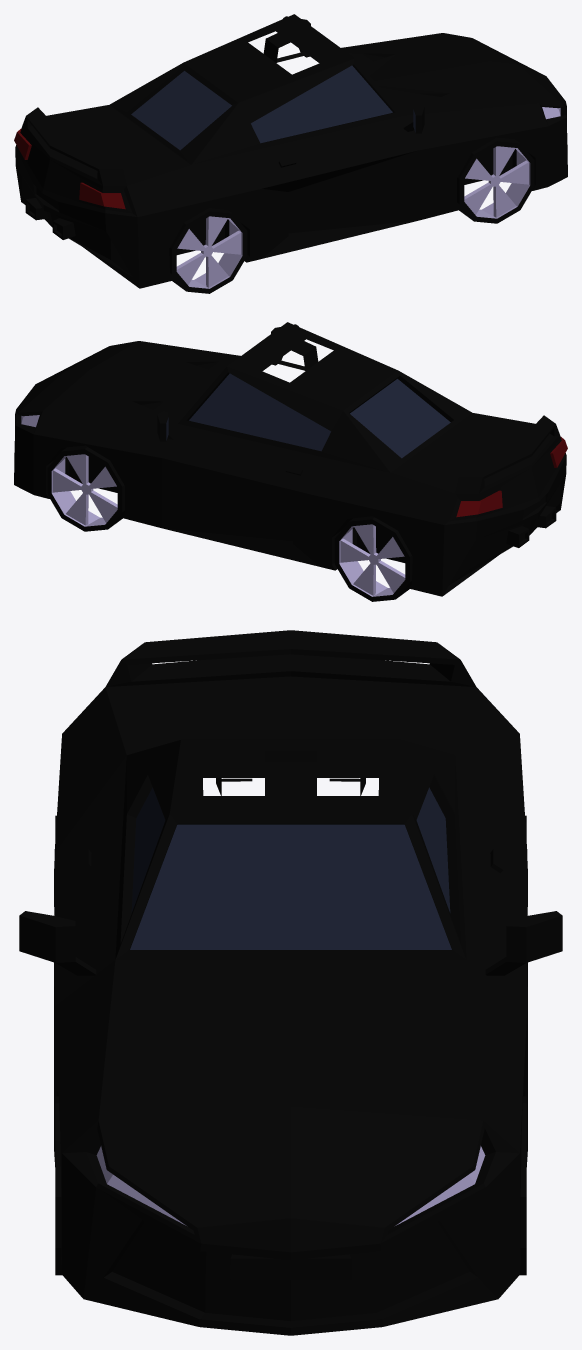
The model's file is coupe.glb.
3 renders of one model, top to bottom at view 1: azimuth 30°, elevation 25°; view 2: azimuth 150°, elevation 25°; view 3: azimuth 270°, elevation 25°, orthographic. The views are drawn at different scales.
Parts seen in each view (by area): view 1: body_paint, body_glass, wheel_fr_rim, wheel_rr_rim, wheel_fr_tire, wheel_rr_tire, body_tail; view 2: body_paint, body_glass, wheel_fl_rim, wheel_rl_rim, wheel_fl_tire, wheel_rl_tire, body_tail; view 3: body_paint, body_glass, body_lamp.
Boxes of the visible parts, x1,y1,x2,y2 form: body_paint: (15, 14, 567, 288); body_glass: (131, 18, 415, 150); wheel_fr_rim: (464, 146, 530, 218); wheel_rr_rim: (176, 216, 242, 288); wheel_fr_tire: (459, 137, 534, 223); wheel_rr_tire: (172, 208, 247, 293); body_tail: (14, 129, 125, 209); body_paint: (14, 322, 566, 596); body_glass: (166, 326, 450, 458); wheel_fl_rim: (51, 454, 117, 526); wheel_rl_rim: (339, 524, 405, 596); wheel_fl_tire: (47, 445, 122, 531); wheel_rl_tire: (334, 516, 409, 601); body_tail: (456, 437, 567, 517); body_paint: (19, 630, 562, 1335); body_glass: (130, 787, 451, 949); body_lamp: (96, 1146, 485, 1225).
Size of the model in its own units: 5.73 by 1.95 by 2.63.
